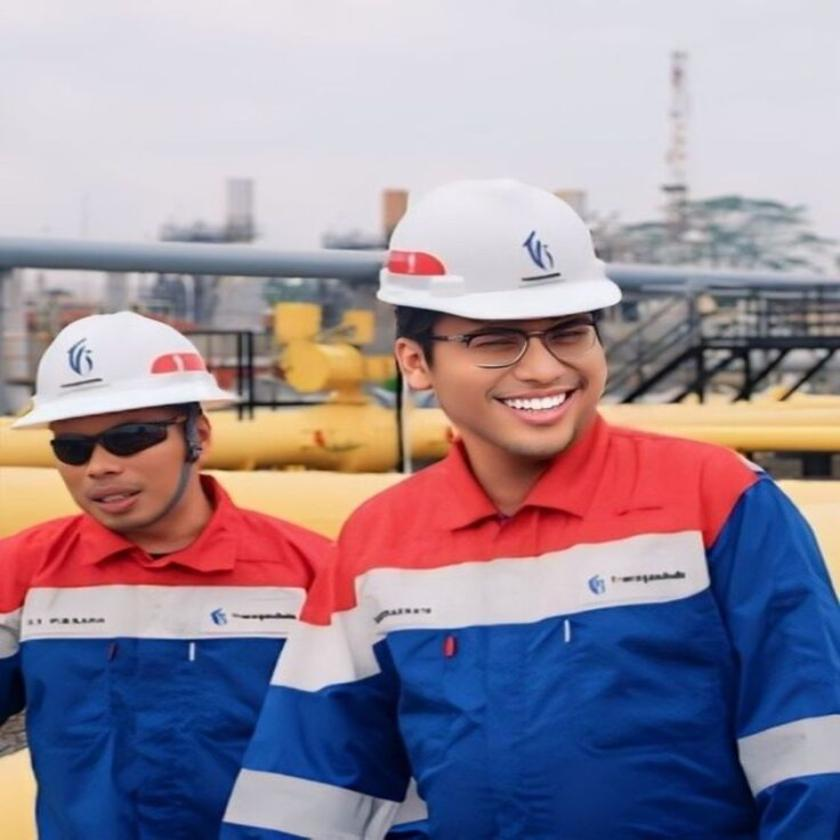Con_casco: (368, 174, 636, 476), (5, 311, 238, 562)
